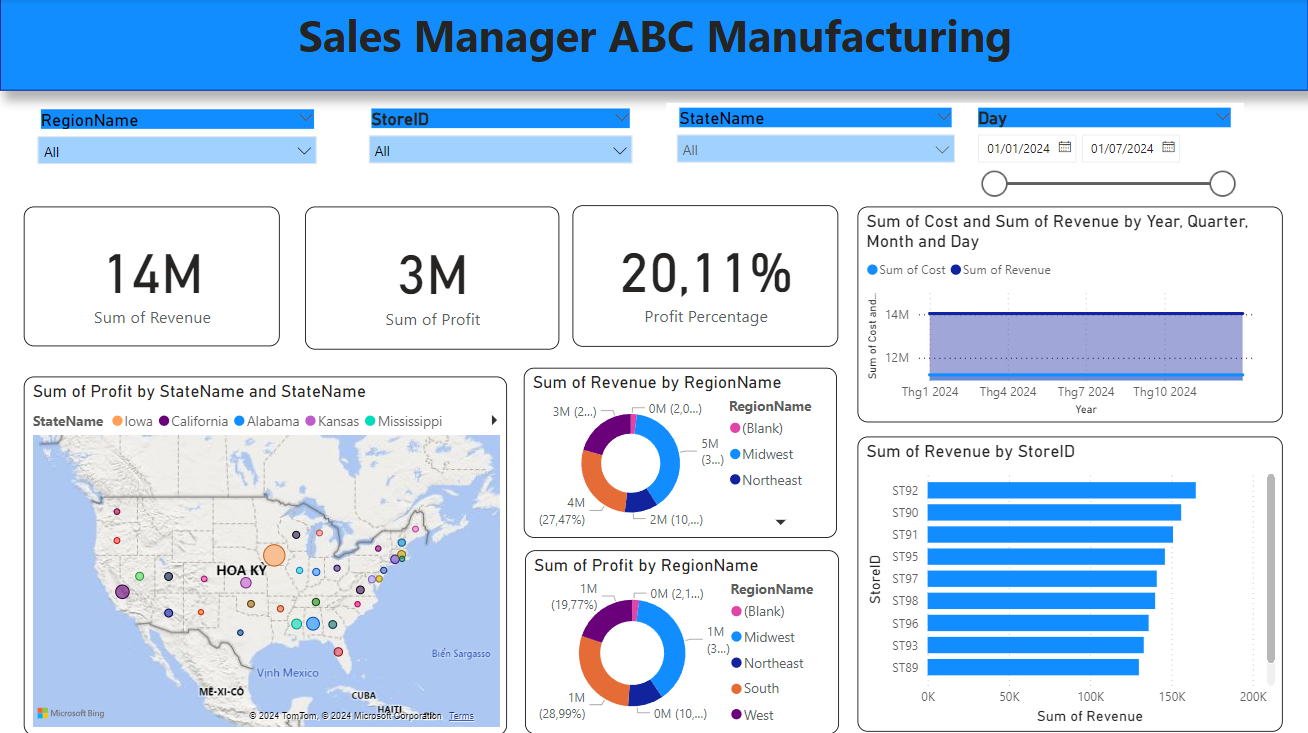

Layout of this report page (visuals, bound fields, positions):
{"tool":"powerbi","page":{"name":"Page 1","canvas":[1280,720],"ordinal":0},"visuals":[{"type":"slicer","fields":{"Values":["Store.StoreID"]},"box":[349.9,101.5,279.9,101.5],"z":0},{"type":"slicer","fields":{"Values":["State.RegionName"]},"box":[22.7,99.1,300.6,102.4],"z":1000},{"type":"card","fields":{"Values":["Sum(Revenue.Revenue)"]},"box":[22.7,203.1,250.2,136.5],"z":2000},{"type":"card","fields":{"Values":["Sum(Revenue.Profit)"]},"box":[299,203.1,248.6,139.7],"z":3000},{"type":"map","fields":{"Series":["State.StateName"],"Size":["Sum(Revenue.Profit)"],"Category":["State.StateName"]},"box":[22.7,368.8,472.8,351],"z":4000},{"type":"textbox","box":[0,0,1280.3,89.7],"z":5000},{"type":"slicer","fields":{"Values":["State.StateName"]},"box":[651.8,101.5,292.3,101.5],"z":6000},{"type":"slicer","fields":{"Values":["Revenue.Day"]},"box":[944,101.5,272.7,162.6],"z":7000},{"type":"card","fields":{"Values":["Revenue.Profit Percentage"]},"box":[560.6,201.5,260,138.1],"z":8000},{"type":"donutChart","fields":{"Y":["Sum(Revenue.Profit)"],"Series":["State.RegionName"]},"box":[513.4,539.4,307.1,180.4],"z":9000},{"type":"areaChart","fields":{"Y":["Sum(Revenue.Cost)","Sum(Revenue.Revenue)"],"Category":["Sell.Date.Variation.Date Hierarchy.Year","Sell.Date.Variation.Date Hierarchy.Quarter","Sell.Date.Variation.Date Hierarchy.Month","Sell.Date.Variation.Date Hierarchy.Day"]},"box":[838.4,203.1,415.9,211.2],"z":10000},{"type":"donutChart","fields":{"Y":["Sum(Revenue.Revenue)"],"Series":["State.RegionName"]},"box":[512.9,360.2,306.7,166.1],"z":11000},{"type":"clusteredBarChart","fields":{"Y":["Sum(Revenue.Revenue)"],"Category":["Revenue.StoreID"]},"box":[838.9,428,415.8,288.6],"z":12000}]}

Visuals, with their boxes in screenshot pixels (x1, y1, x2, y2), scaled from the page's 1280x720 canvas onto the 1308x733 screenshot:
slicer - Store.StoreID: detection(358, 103, 644, 207)
slicer - State.RegionName: detection(23, 101, 330, 205)
card - Sum(Revenue.Revenue): detection(23, 207, 279, 346)
card - Sum(Revenue.Profit): detection(306, 207, 560, 349)
map - State.StateName x Sum(Revenue.Profit): detection(23, 375, 506, 732)
textbox: detection(0, 0, 1307, 91)
slicer - State.StateName: detection(666, 103, 965, 207)
slicer - Revenue.Day: detection(965, 103, 1243, 269)
card - Revenue.Profit Percentage: detection(573, 205, 839, 346)
donutChart - Sum(Revenue.Profit) x State.RegionName: detection(525, 549, 838, 732)
areaChart - Sum(Revenue.Cost) x Sum(Revenue.Revenue): detection(857, 207, 1282, 422)
donutChart - Sum(Revenue.Revenue) x State.RegionName: detection(524, 367, 838, 536)
clusteredBarChart - Sum(Revenue.Revenue) x Revenue.StoreID: detection(857, 436, 1282, 730)
